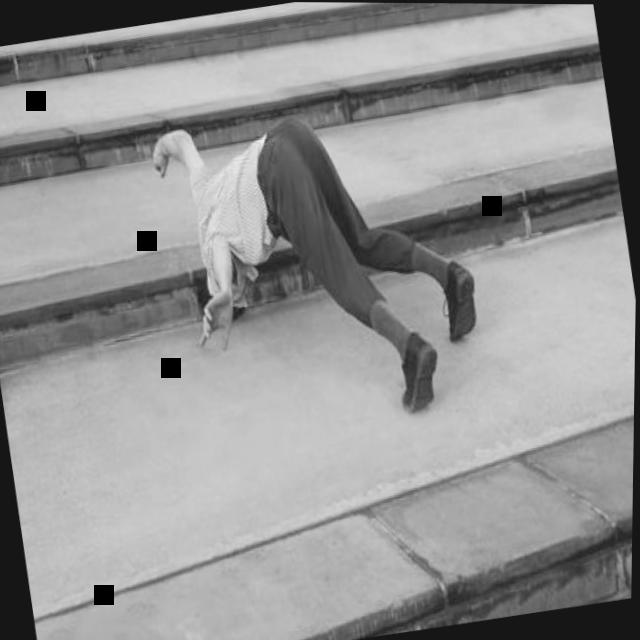Fall-Detected: (129, 69, 502, 449)
